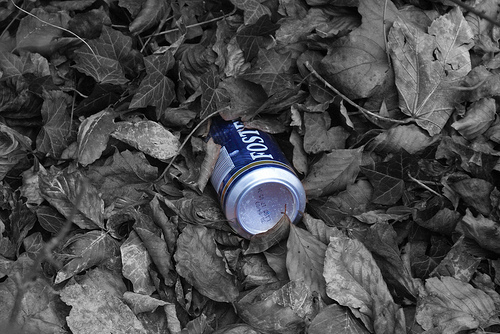litter: (204, 116, 306, 241)
